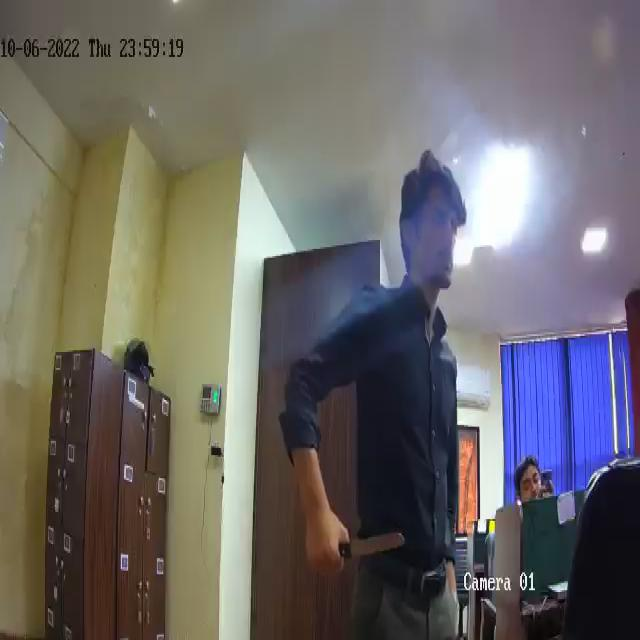Knife: (307, 523, 407, 569)
